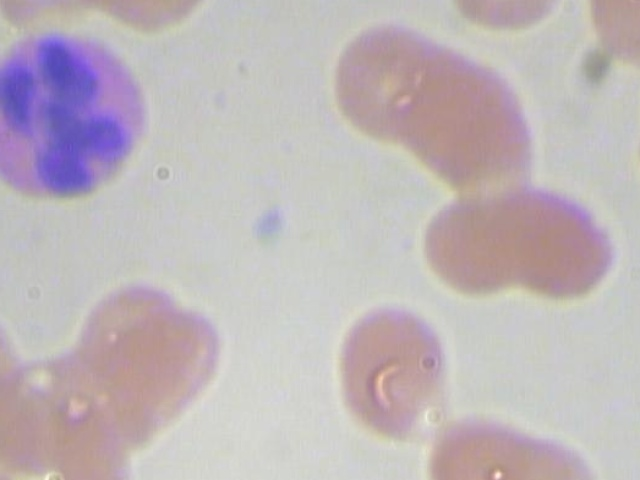Platelets: (232, 198, 297, 244)
RBC: (328, 297, 457, 441), (323, 14, 452, 158), (484, 179, 620, 301), (417, 180, 525, 303), (416, 414, 609, 480)
WBC: (0, 18, 180, 218)
